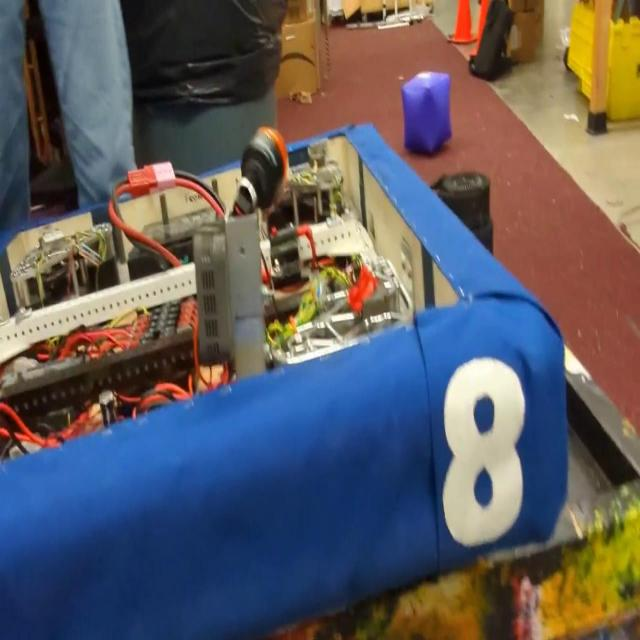frc_cube: (401, 70, 452, 158)
